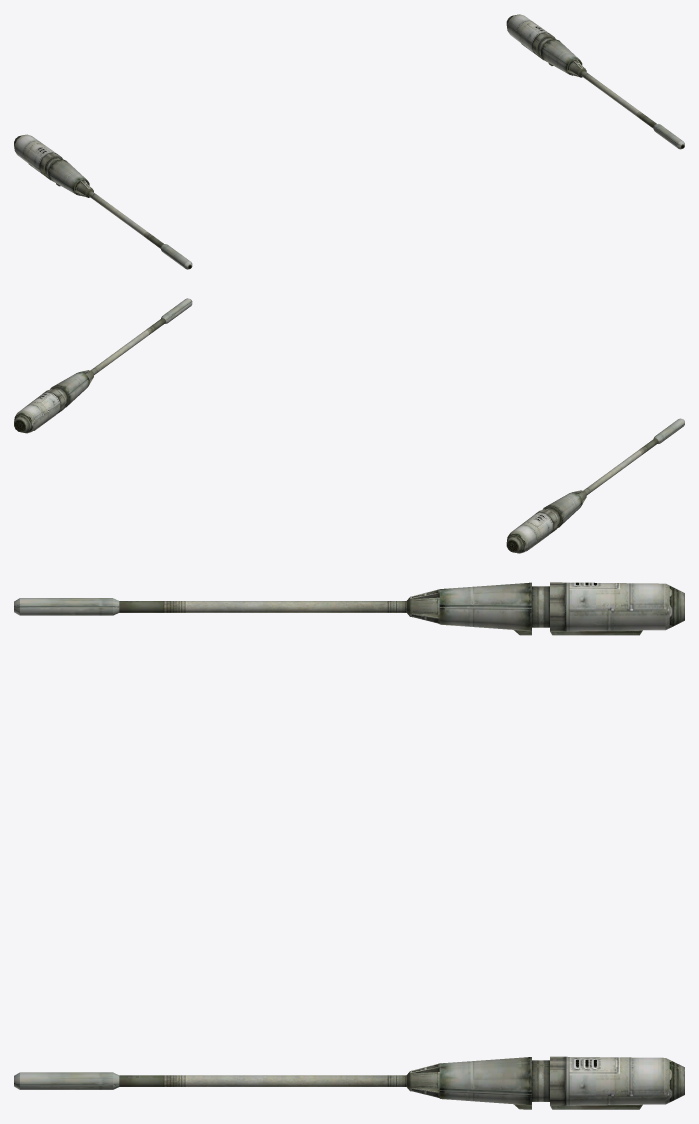
File: z95_weapon_s05_l0.fbx
3 views of the same model, one above another, from view 1: azimuth 30°, elevation 25°; view 2: azimuth 150°, elevation 25°; view 3: azimuth 270°, elevation 25° (orthographic). The views are drawn at different scales.
Parts seen in each view (by area): view 1: mesh_node; view 2: mesh_node; view 3: mesh_node.
Boxes of the visible parts, <box> form: mesh_node: <box>14,14,684,269</box>; mesh_node: <box>14,298,684,553</box>; mesh_node: <box>14,582,684,1109</box>.
Bounding box in the file's own units: 15.35 × 0.6879 × 8.8.
